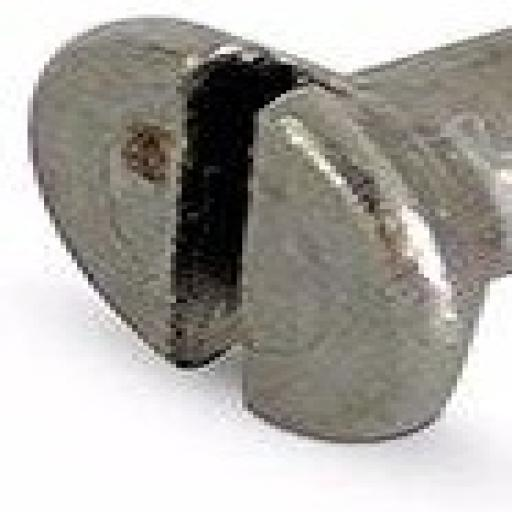Slotted: (28, 22, 494, 441)
